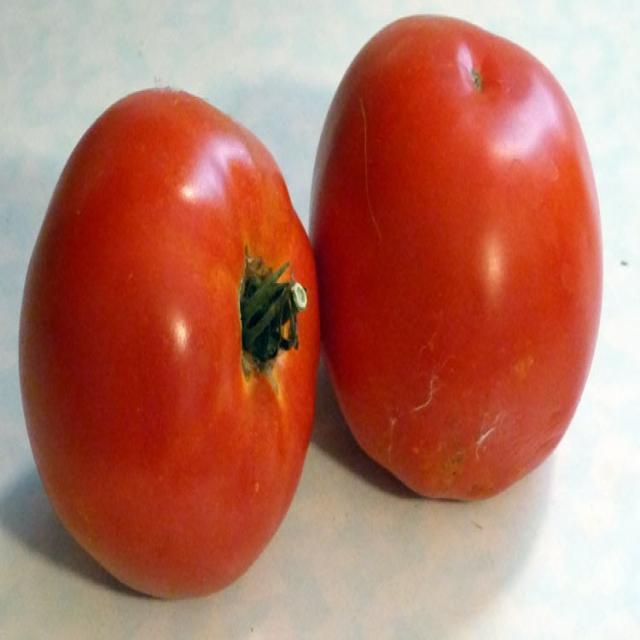kirmizi: (24, 25, 600, 604)
